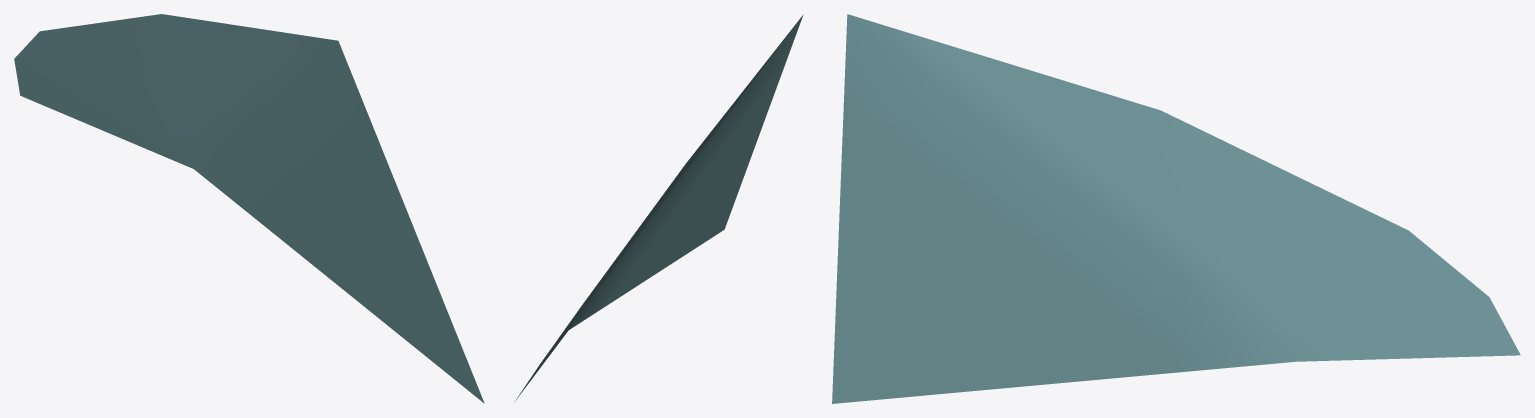
Rendered from OldSchool_1_Door_Window_RL_Tessellate.fbx.
3 views of the same model, side by side, from view 1: azimuth 30°, elevation 25°; view 2: azimuth 150°, elevation 25°; view 3: azimuth 270°, elevation 25° (orthographic). The views are drawn at different scales.
Parts seen in each view (by area): view 1: OldSchool_1_Door_Window_RL_Tessellate; view 2: OldSchool_1_Door_Window_RL_Tessellate; view 3: OldSchool_1_Door_Window_RL_Tessellate.
Part boxes in pixels (<box>): OldSchool_1_Door_Window_RL_Tessellate: <box>14,14,484,403</box>; OldSchool_1_Door_Window_RL_Tessellate: <box>515,14,803,400</box>; OldSchool_1_Door_Window_RL_Tessellate: <box>832,14,1520,403</box>.
Size of the model in its own units: 105 by 284 by 534.
